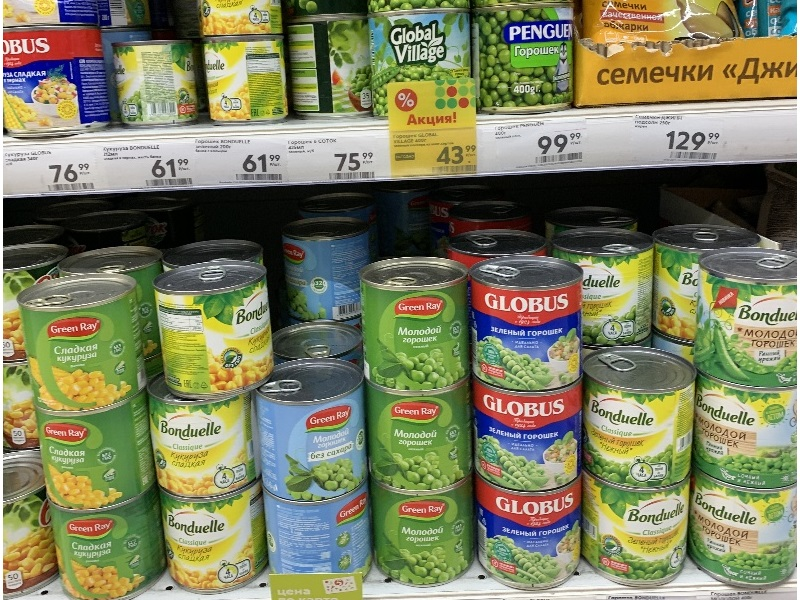peas: (580, 346, 703, 497), (354, 253, 479, 398), (468, 256, 592, 395), (466, 380, 595, 497), (359, 377, 484, 496), (363, 479, 486, 597), (696, 248, 800, 387), (469, 476, 593, 592), (579, 476, 700, 591), (470, 1, 585, 121), (691, 379, 799, 486)
